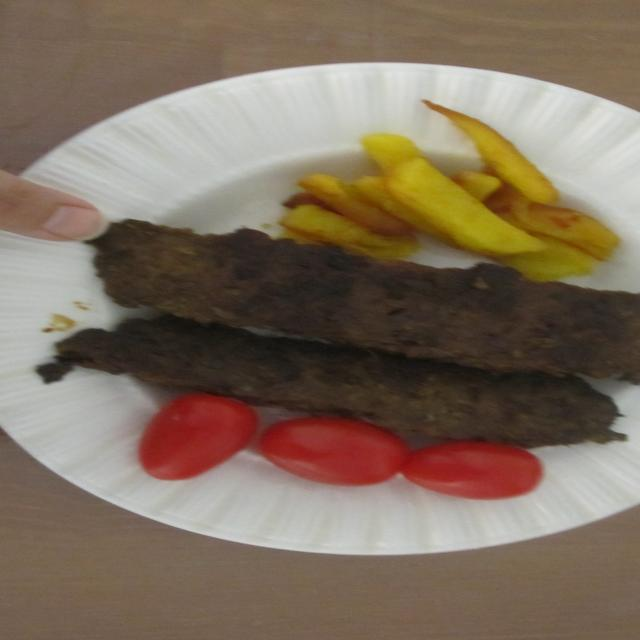cutlet: (55, 217, 637, 426)
potato: (311, 120, 593, 215)
tomato: (260, 435, 554, 505)
